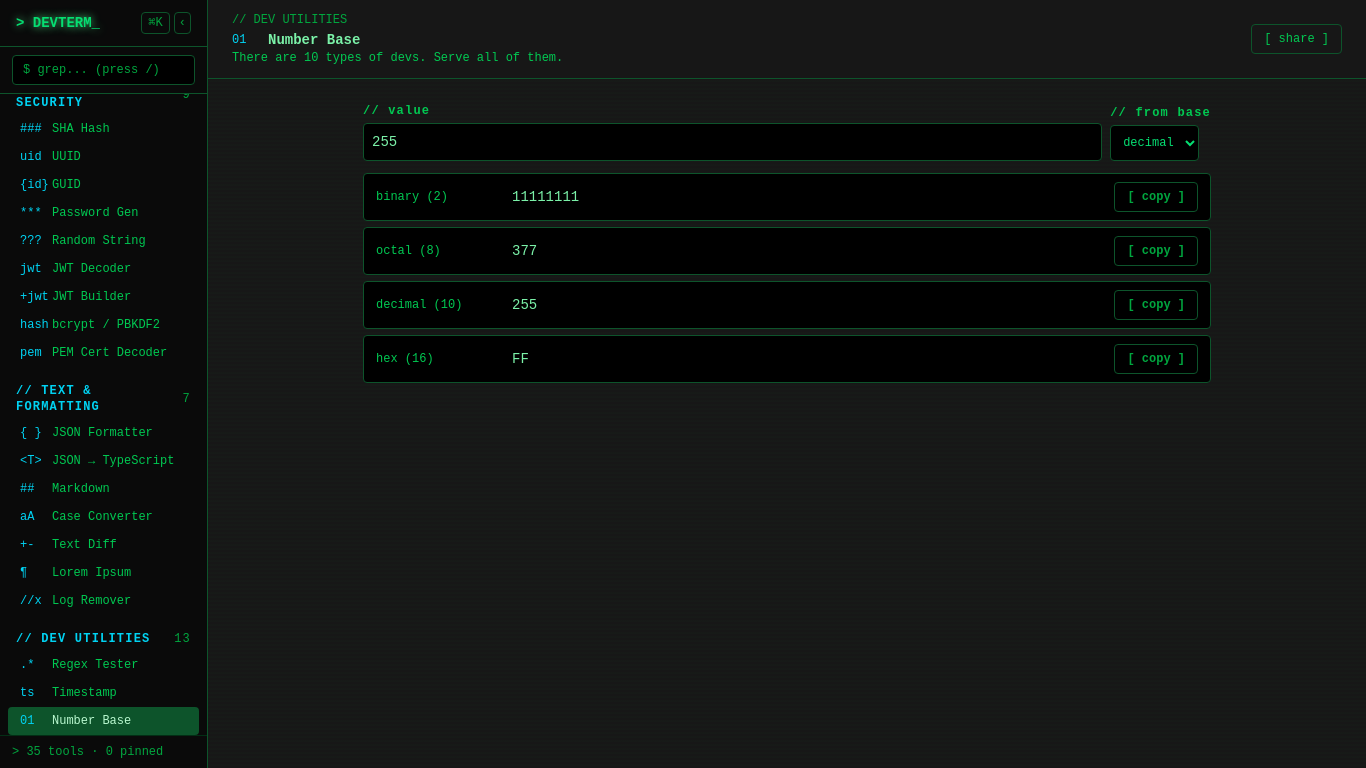
Test: Number Base Converter › shows error for invalid value
(page scrolled)
Expected: the element that starts with "// value" is shown, [363, 103, 1211, 383]
Replace the text in the 2nd field with "ZZZ": (733, 142) [363, 123, 1102, 161]
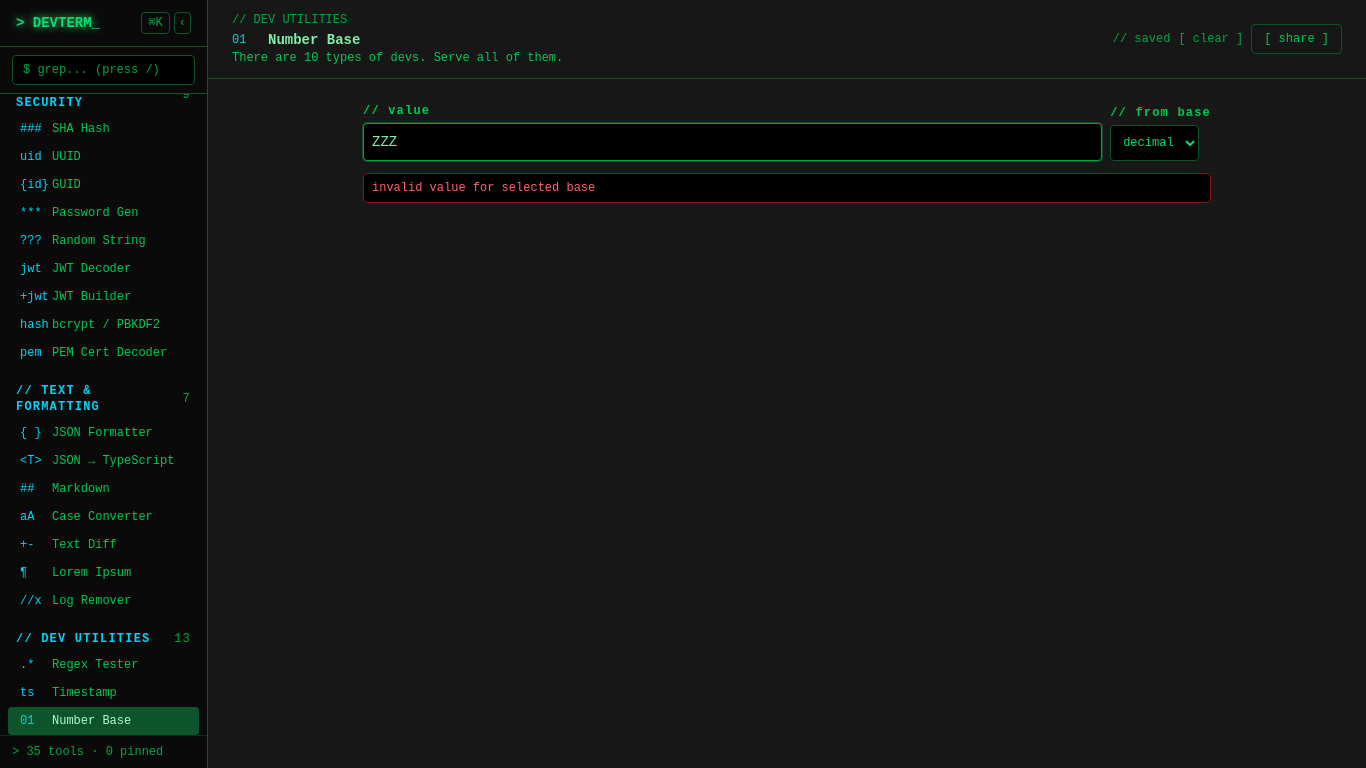
Now the text "invalid value" is shown, box [372, 181, 595, 195]
